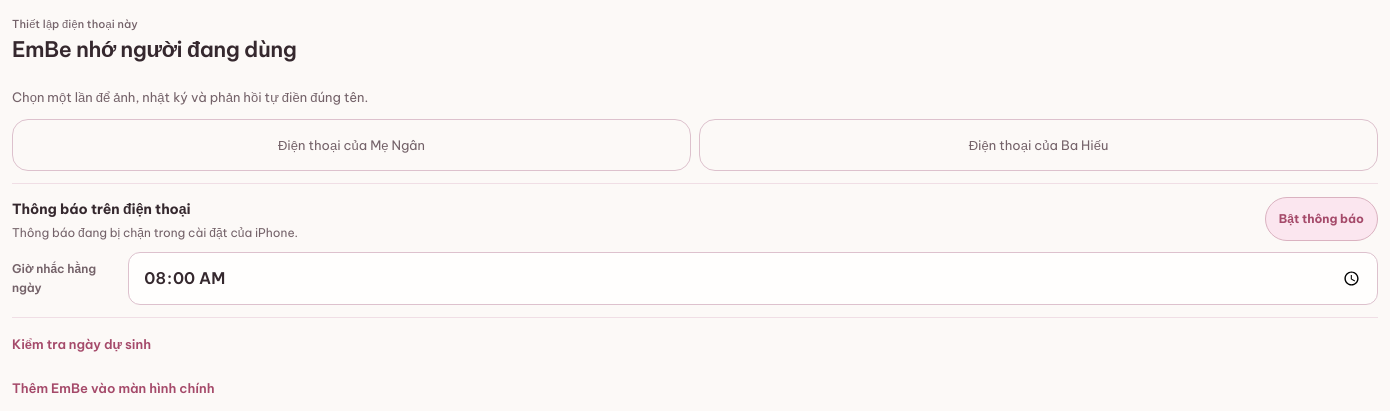
Test: per-phone family setup › remembers whose iPhone this is without asking on every action
Click the button "Điện thoại của Mẹ Ngân" at (352, 145), box x1=12 y1=119 x2=691 y2=171
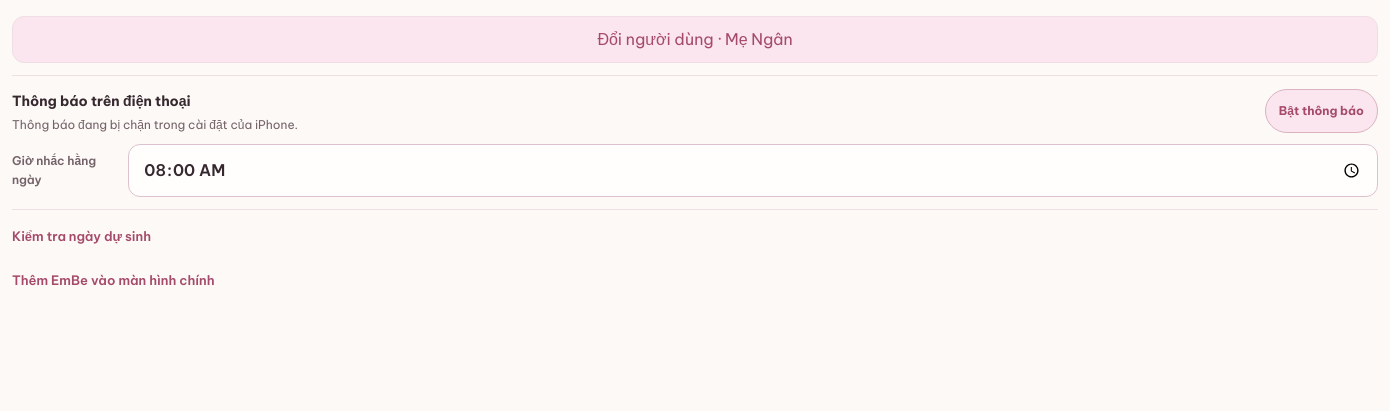
Result: the button "Điện thoại của Mẹ Ngân" is gone
Result: the button "Đổi người dùng · Mẹ Ngân" is shown at x1=12 y1=16 x2=1378 y2=63
